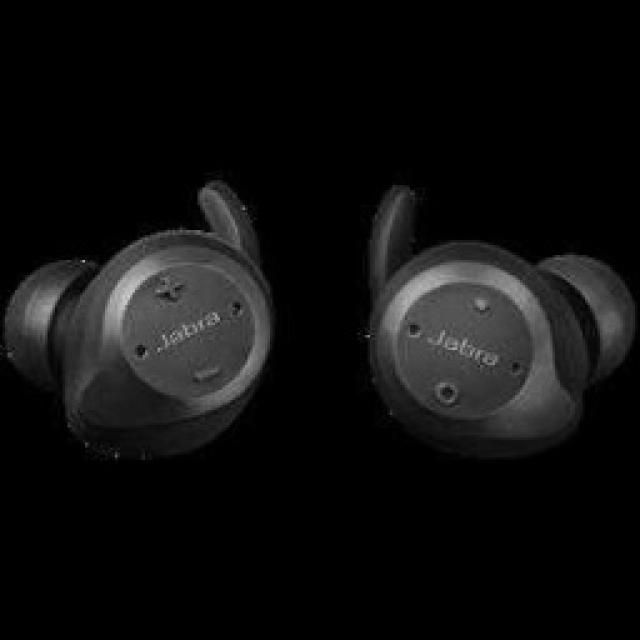headphones: (360, 180, 635, 460)
